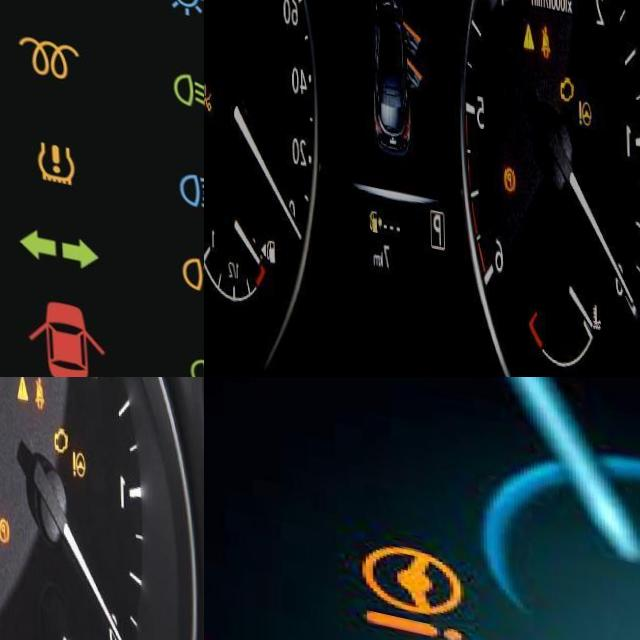Electronic Power Steering: (356, 530, 460, 633), (576, 74, 593, 107), (69, 427, 88, 454)
Seat Belt: (537, 2, 552, 41), (31, 377, 45, 389)
